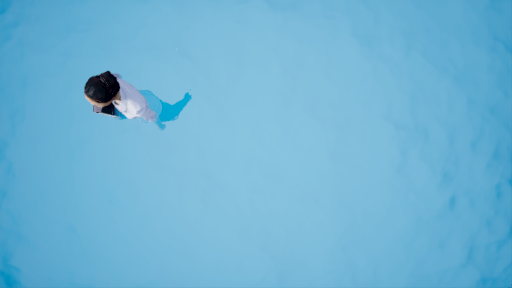person: (87, 72, 191, 135)
